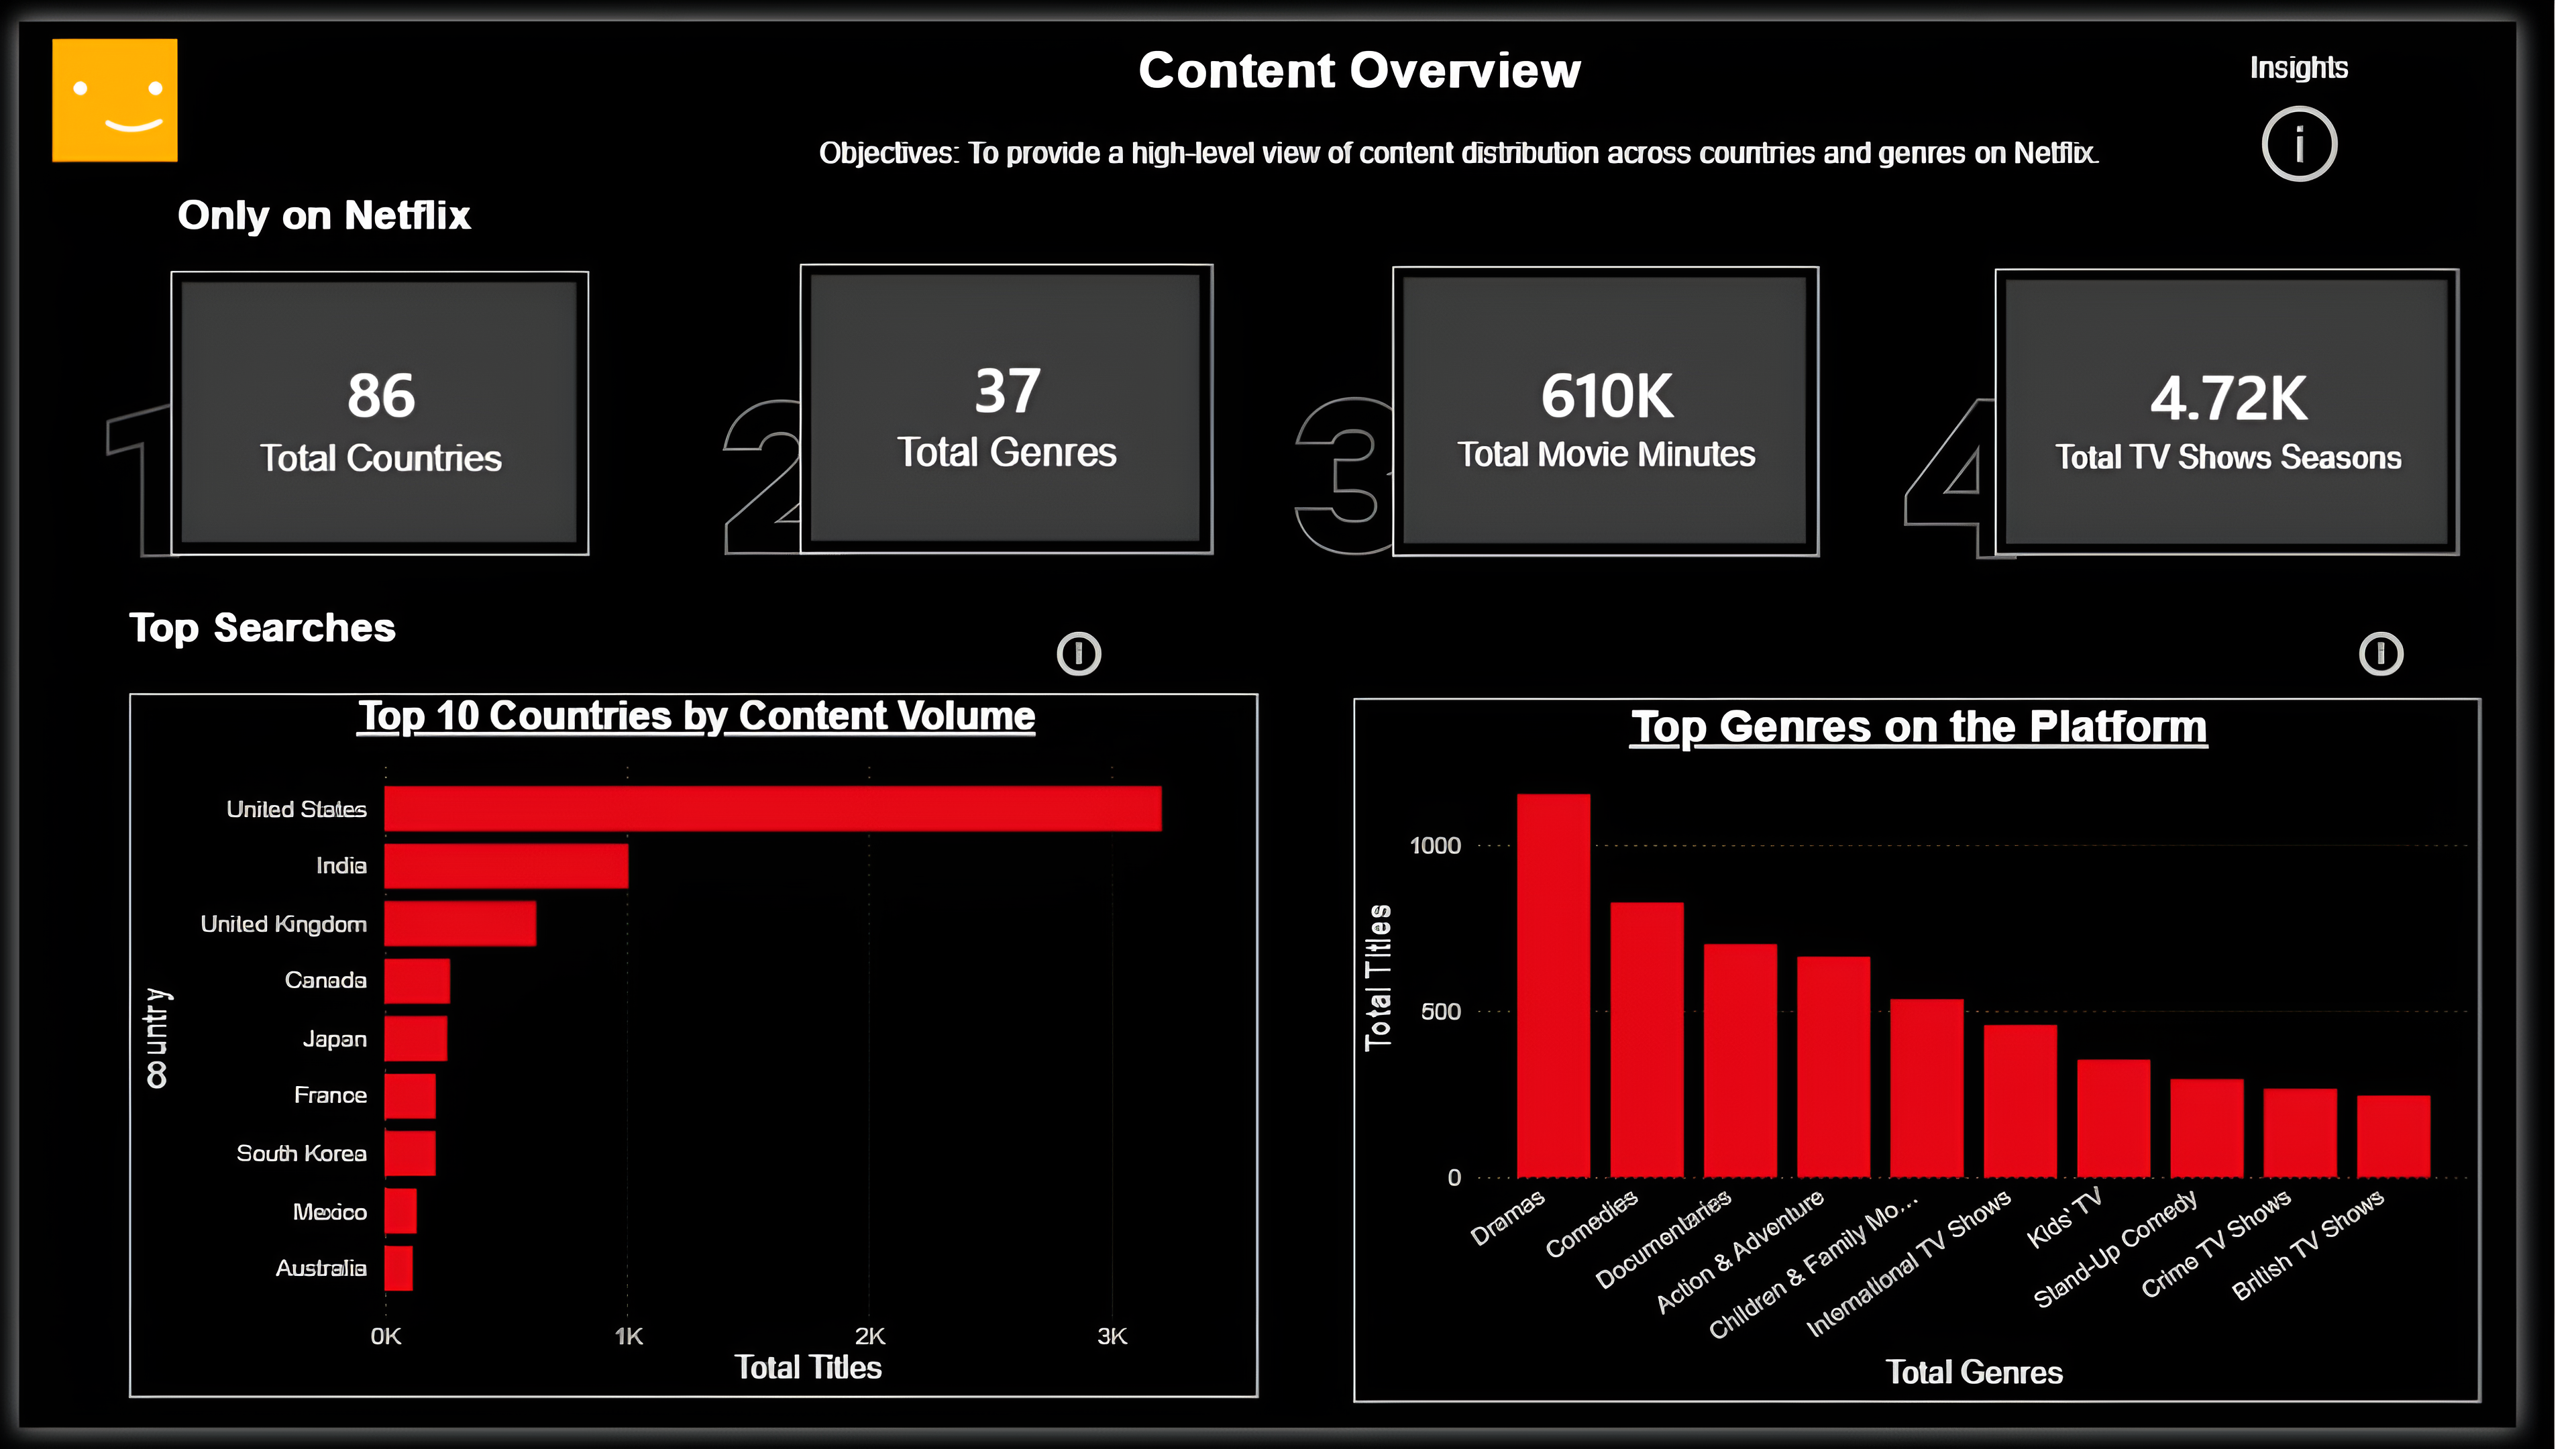

What the dashboard file says about the page in this screenshot:
{"tool":"powerbi","page":{"name":"Overview","canvas":[1280,720],"ordinal":1},"visuals":[{"type":"textbox","box":[568.4,5.5,245,45.4],"z":0},{"type":"image","box":[12.4,135.9,110.1,197.4],"z":500,"group":"g1"},{"type":"image","box":[16.5,8.3,66.1,63.3],"z":1000},{"type":"cardVisual","fields":{"Data":["Overview Measures.Total Countries"]},"box":[77.9,126.7,214.7,145.9],"z":1000,"group":"g1"},{"type":"image","box":[335.8,134.2,110.1,198.2],"z":1500,"group":"g1"},{"type":"cardVisual","fields":{"Data":["Overview Measures.Total Genres"]},"box":[400,123.2,212,148.6],"z":2000,"group":"g1"},{"type":"clusteredBarChart","title":"Top 10 Countries by Content Volume","fields":{"Category":["netflix titles.country.1"],"Y":["Overview Measures.Total Titles"]},"box":[56.4,344.1,579.4,360.6],"z":2000},{"type":"textbox","box":[75.7,82.6,214.7,39.9],"z":3000},{"type":"image","box":[630.2,133,110.1,197.4],"z":3500,"group":"g1"},{"type":"group","id":"g1","title":"Group 1","box":[12.4,123.2,1238.1,220.1],"z":4000},{"type":"cardVisual","fields":{"Data":["Overview Measures.Total Movie Minutes"]},"box":[704.1,124.3,218.8,148.6],"z":4000,"group":"g1"},{"type":"image","box":[942,124.5,115.8,218.8],"z":5000,"group":"g1"},{"type":"textbox","box":[49.5,293.2,214.7,39.9],"z":5000},{"type":"cardVisual","fields":{"Data":["Overview Measures.Total Seasons viewed"]},"box":[1012.4,125.7,238.1,147.3],"z":6000,"group":"g1"},{"type":"clusteredColumnChart","title":"Top Genres on the Platform","fields":{"Category":["netflix titles.listed_in"],"Y":["Home Measures.Total Titles"]},"box":[684,346.8,578.1,360.6],"z":6000},{"type":"textbox","box":[404.6,55.1,679.9,33],"z":7000},{"type":"actionButton","title":"Insights","box":[1143.7,16.5,67.4,71.6],"z":8000},{"type":"actionButton","box":[527.1,305.5,31.7,37.2],"z":9000},{"type":"actionButton","box":[1194.7,305.5,31.7,37.2],"z":10000}]}

Visuals, with their boxes in screenshot pixels (x1, y1, x2, y2), scaled from the page's 1280x720 canvas onto the 2576x1449 screenshot:
textbox: select_region(1144, 11, 1637, 103)
image: select_region(25, 274, 247, 671)
image: select_region(34, 17, 166, 144)
cardVisual - Overview Measures.Total Countries: select_region(157, 255, 589, 549)
image: select_region(676, 270, 898, 669)
cardVisual - Overview Measures.Total Genres: select_region(805, 248, 1232, 547)
"Top 10 Countries by Content Volume" clusteredBarChart: select_region(113, 692, 1279, 1418)
textbox: select_region(152, 166, 584, 247)
image: select_region(1269, 268, 1490, 665)
"Group 1" group: select_region(25, 248, 2517, 691)
cardVisual - Overview Measures.Total Movie Minutes: select_region(1417, 250, 1858, 549)
image: select_region(1896, 251, 2129, 691)
textbox: select_region(99, 590, 532, 670)
cardVisual - Overview Measures.Total Seasons viewed: select_region(2037, 253, 2517, 549)
"Top Genres on the Platform" clusteredColumnChart: select_region(1377, 698, 2540, 1424)
textbox: select_region(814, 111, 2183, 177)
"Insights" actionButton: select_region(2302, 34, 2437, 177)
actionButton: select_region(1061, 614, 1124, 690)
actionButton: select_region(2404, 614, 2468, 690)
